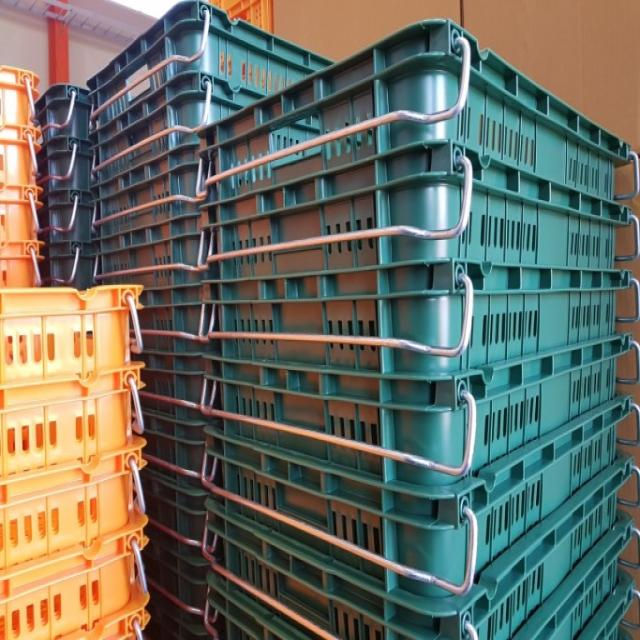basket: (146, 20, 640, 640), (0, 288, 149, 640), (0, 285, 143, 384), (33, 79, 94, 144), (35, 135, 93, 192), (0, 185, 42, 253), (38, 197, 93, 243), (39, 244, 93, 290), (0, 66, 39, 127), (0, 241, 42, 288), (0, 137, 35, 186), (0, 249, 29, 258)
